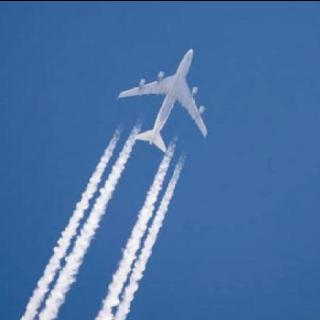Contrails: (3, 121, 198, 320)
